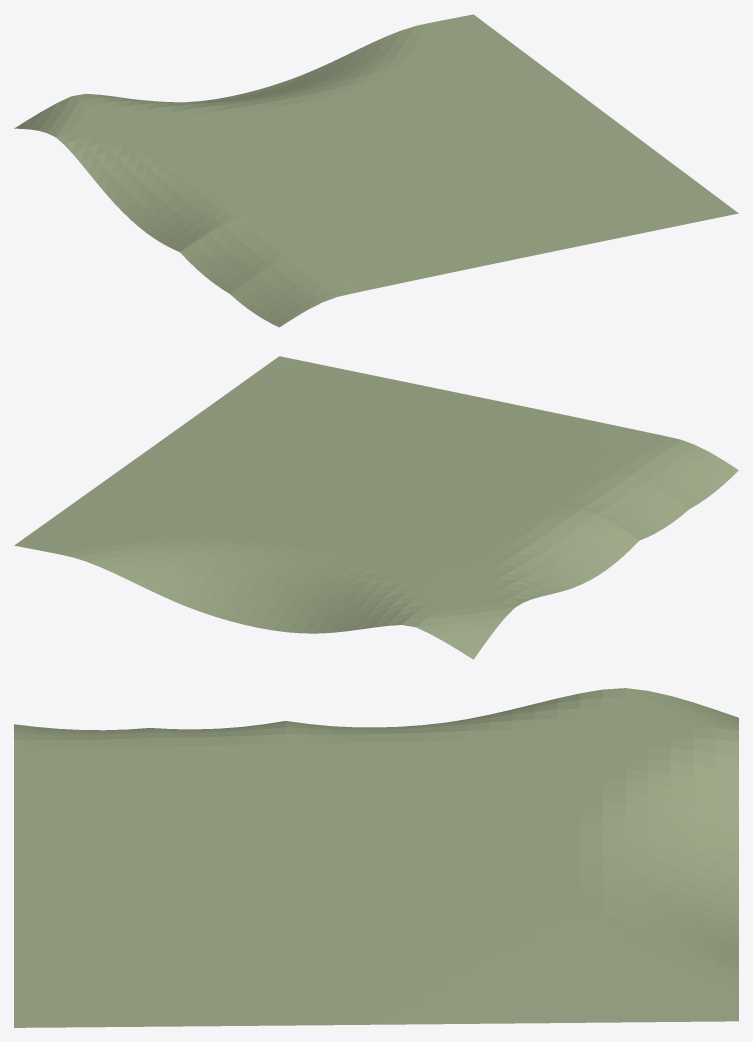
Rendered from gardens-2-2.glb.
3 views of the same model, one above another, from view 1: azimuth 30°, elevation 25°; view 2: azimuth 150°, elevation 25°; view 3: azimuth 270°, elevation 25° (orthographic). The views are drawn at different scales.
Parts seen in each view (by area): view 1: gardens-2-2; view 2: gardens-2-2; view 3: gardens-2-2.
Part boxes in pixels (bbox=[...]): gardens-2-2: bbox=[14, 14, 738, 327]; gardens-2-2: bbox=[14, 356, 738, 659]; gardens-2-2: bbox=[14, 688, 738, 1027].
Size of the model in its own units: 256 by 22.72 by 256.
